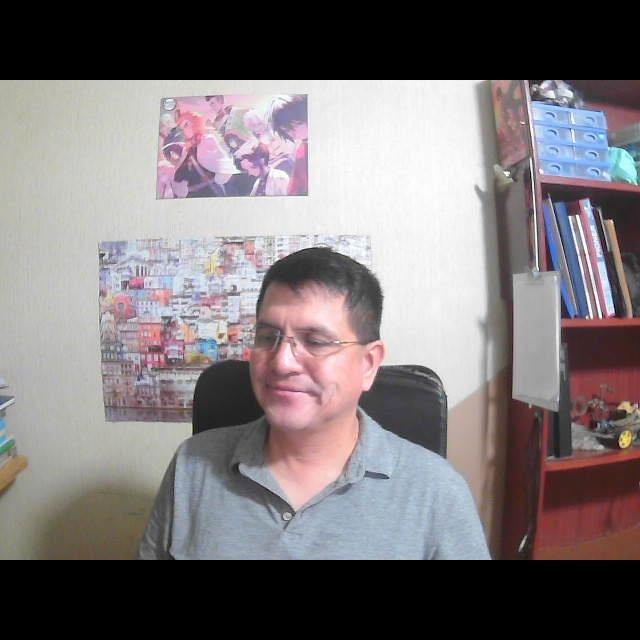cesar: (224, 233, 408, 469)
